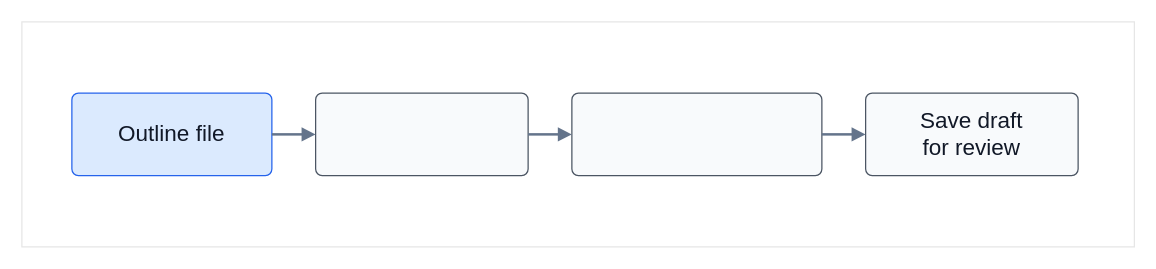
The diagram is 1156 pixels wide and 269 high, and some of its shapes have lost their labels. Each missing label, with the centre of its shape:
Example posts for style: the point at 421,134
LLM generates Markdown article: the point at 696,134
